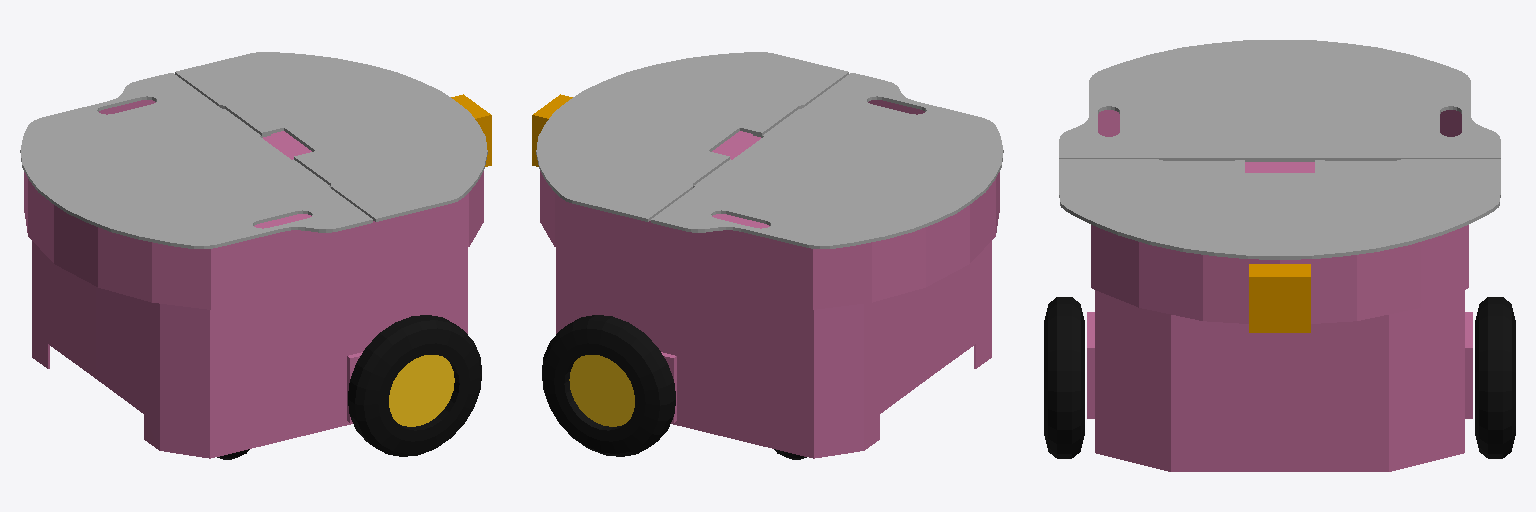
robot.urdf — powerbot:
<?xml version="1.0" ?>
<!-- =================================================================================== -->
<!-- |    This document was autogenerated by xacro from powerbot.xacro                 | -->
<!-- |    EDITING THIS FILE BY HAND IS NOT RECOMMENDED                                 | -->
<!-- =================================================================================== -->
<robot name="powerbot" xmlns:controller="http://playerstage.sourceforge.net/gazebo/xmlschema/#controller" xmlns:interface="http://playerstage.sourceforge.net/gazebo/xmlschema/#interface" xmlns:sensor="http://playerstage.sourceforge.net/gazebo/xmlschema/#sensor">
  <!--<xacro:include filename="$(find p2os_urdf)/defs/materials.xacro"/>-->
  <!--<xacro:include filename="$(find p2os_urdf)/defs/materials.xacro"/>-->
  <!--<xacro:include filename="$(find p2os_urdf)/defs/materials.xacro"/>-->
  <!-- 0.148 -->
  <!-- Right/${suffix} Swivel support

	<link name="${suffix}_swivel_support">
		<inertial>
			<mass value="0.1"/>	
			<origin xyz="0 0 0" rpy="0 0 0"/>
			<inertia ixx="0.01" ixy="0" ixz="0"
				 iyy="0.01" iyz="0" izz="0.01"/>
  	 	</inertial>
	<visual name="${suffix}_swivel_support_visual">
		<origin xyz="0 0 0" rpy="0 0 0"/>
		<geometry name="swivel">
			<mesh filename="${mesh_directory}/swivel_support.stl" />
		</geometry>
		<material name="swivel">
			<color rgba="0.9 0.9 0.9 1"/>
		</material>
	</visual>
	<collision>
		<origin xyz="0 0 0" rpy="0 0 0"/>
		<geometry>
			<mesh filename="${mesh_directory}/swivel_support.stl" scale= "1.005 1.005 1.005"/>
		</geometry>
	</collision>
	</link>
	<gazebo reference="swivel">
		<material value="Gazebo/Grey"/>
	</gazebo>

	<joint name="${suffix}_base_swivel_joint" type="continuous">
		<origin xyz="0 0 -0.04855" rpy="0 0 0"/>
		<axis xyz="0 0 1"/>
	    <limit effort="100" velocity="100" k_velocity="0" />
	    <joint_properties damping="0.0" friction="0.0" />
		<parent link="${suffix}_swivel_support"/>
		<child link="powerbot_${suffix}_swivel"/>
	</joint>
-->
  <joint name="left_base_swivel_support_joint" type="fixed">
    <origin rpy="0 0 0" xyz="-0.215 0.2 -0.145"/>
    <parent link="base_center"/>
    <child link="powerbot_left_swivel_support"/>
  </joint>
  <!-- Support bowl-->
  <link name="powerbot_left_swivel_support">
    <inertial>
      <mass value="2.0"/>
      <origin rpy="0 0 0" xyz="0 0 0"/>
      <inertia ixx="0.001" ixy="0" ixz="0" iyy="0.001" iyz="0" izz="0.001"/>
    </inertial>
    <visual>
      <origin rpy="0 0 0" xyz="0 0 0"/>
      <geometry name="swivel">
        <mesh filename="package://technical_project/meshes/p3dx_meshes/bowl.stl"/>
      </geometry>
    </visual>
    <collision>
      <origin rpy="0 0 0" xyz="0 0 0"/>
      <geometry>
        <mesh filename="package://technical_project/meshes/p3dx_meshes/bowl.stl" scale="1.005 1.005 1.005"/>
      </geometry>
    </collision>
  </link>
  <gazebo reference="powerbot_left_swivel_support">
    <material value="Gazebo/Yellow"/>
  </gazebo>
  <!-- ${suffix} support swivel ball joint -->
  <joint name="left_ballRoot_joint" type="fixed">
    <origin xyz="0 0 0"/>
    <parent link="powerbot_left_swivel_support"/>
    <child link="left_ball"/>
  </joint>
  <link name="left_ball">
    <inertial>
      <mass value="2.0"/>
      <origin xyz="0 0 0"/>
      <inertia ixx="0.00288" ixy="0.0" ixz="0.0" iyy="0.00288" iyz="0.0" izz="0.00288"/>
    </inertial>
  </link>
  <joint name="left_ballPsi_joint" type="continuous">
    <origin rpy="0 0 0" xyz="0 0 0"/>
    <parent link="left_ball"/>
    <child link="left_ball_psi_link"/>
    <axis xyz="0 0 1"/>
    <dynamics damping="0.09"/>
  </joint>
  <link name="left_ball_psi_link">
    <inertial>
      <mass value="2.0"/>
      <origin xyz="0 0 0"/>
      <inertia ixx="0.00288" ixy="0.0" ixz="0.0" iyy="0.00288" iyz="0.0" izz="0.00288"/>
    </inertial>
  </link>
  <joint name="left_ballTheta_joint" type="continuous">
    <origin rpy="0 0 0" xyz="0 0 0"/>
    <parent link="left_ball_psi_link"/>
    <child link="left_ball_theta_link"/>
    <axis xyz="0 1 0"/>
    <dynamics damping="0.09"/>
  </joint>
  <link name="left_ball_theta_link">
    <inertial>
      <mass value="2.0"/>
      <origin xyz="0 0 0"/>
      <inertia ixx="0.00288" ixy="0.0" ixz="0.0" iyy="0.00288" iyz="0.0" izz="0.00288"/>
    </inertial>
  </link>
  <joint name="left_ballPhi_joint" type="continuous">
    <origin rpy="0 0 0" xyz="0 0 0"/>
    <parent link="left_ball_theta_link"/>
    <child link="powerbot_left_swivel_ball"/>
    <axis xyz="1 0 0"/>
    <dynamics damping="0.09"/>
  </joint>
  <!--
-->
  <!-- Swivel ball -->
  <link name="powerbot_left_swivel_ball">
    <inertial>
      <mass value="2.0"/>
      <origin xyz="0 0 0"/>
      <inertia ixx="0.00288" ixy="0.0" ixz="0.0" iyy="0.00288" iyz="0.0" izz="0.00288"/>
    </inertial>
    <visual>
      <origin rpy="0 0 0" xyz="0 0 0"/>
      <geometry name="powerbot_left_swivel_ball">
        <mesh filename="package://technical_project/meshes/p3dx_meshes/ball.stl"/>
      </geometry>
      <material name="Wheeleft_black">
        <color rgba="0.117 0.117 0.117 1"/>
      </material>
    </visual>
    <collision>
      <origin rpy=" -1.57079635 0 0" xyz="0 0 0"/>
      <geometry>
        <sphere radius="0.06"/>
      </geometry>
    </collision>
  </link>
  <gazebo reference="powerbot_left_swivel_ball">
    <material value="Gazebo/Black"/>
    <mu1>100</mu1>
    <mu2>200</mu2>
    <kp>100000000.0</kp>
    <kd>1.0</kd>
  </gazebo>
  <!-- Right/${suffix} Swivel support

	<link name="${suffix}_swivel_support">
		<inertial>
			<mass value="0.1"/>	
			<origin xyz="0 0 0" rpy="0 0 0"/>
			<inertia ixx="0.01" ixy="0" ixz="0"
				 iyy="0.01" iyz="0" izz="0.01"/>
  	 	</inertial>
	<visual name="${suffix}_swivel_support_visual">
		<origin xyz="0 0 0" rpy="0 0 0"/>
		<geometry name="swivel">
			<mesh filename="${mesh_directory}/swivel_support.stl" />
		</geometry>
		<material name="swivel">
			<color rgba="0.9 0.9 0.9 1"/>
		</material>
	</visual>
	<collision>
		<origin xyz="0 0 0" rpy="0 0 0"/>
		<geometry>
			<mesh filename="${mesh_directory}/swivel_support.stl" scale= "1.005 1.005 1.005"/>
		</geometry>
	</collision>
	</link>
	<gazebo reference="swivel">
		<material value="Gazebo/Grey"/>
	</gazebo>

	<joint name="${suffix}_base_swivel_joint" type="continuous">
		<origin xyz="0 0 -0.04855" rpy="0 0 0"/>
		<axis xyz="0 0 1"/>
	    <limit effort="100" velocity="100" k_velocity="0" />
	    <joint_properties damping="0.0" friction="0.0" />
		<parent link="${suffix}_swivel_support"/>
		<child link="powerbot_${suffix}_swivel"/>
	</joint>
-->
  <joint name="right_base_swivel_support_joint" type="fixed">
    <origin rpy="0 0 0" xyz="-0.215 -0.2 -0.145"/>
    <parent link="base_center"/>
    <child link="powerbot_right_swivel_support"/>
  </joint>
  <!-- Support bowl-->
  <link name="powerbot_right_swivel_support">
    <inertial>
      <mass value="2.0"/>
      <origin rpy="0 0 0" xyz="0 0 0"/>
      <inertia ixx="0.001" ixy="0" ixz="0" iyy="0.001" iyz="0" izz="0.001"/>
    </inertial>
    <visual>
      <origin rpy="0 0 0" xyz="0 0 0"/>
      <geometry name="swivel">
        <mesh filename="package://technical_project/meshes/p3dx_meshes/bowl.stl"/>
      </geometry>
    </visual>
    <collision>
      <origin rpy="0 0 0" xyz="0 0 0"/>
      <geometry>
        <mesh filename="package://technical_project/meshes/p3dx_meshes/bowl.stl" scale="1.005 1.005 1.005"/>
      </geometry>
    </collision>
  </link>
  <gazebo reference="powerbot_right_swivel_support">
    <material value="Gazebo/Yellow"/>
  </gazebo>
  <!-- ${suffix} support swivel ball joint -->
  <joint name="right_ballRoot_joint" type="fixed">
    <origin xyz="0 0 0"/>
    <parent link="powerbot_right_swivel_support"/>
    <child link="right_ball"/>
  </joint>
  <link name="right_ball">
    <inertial>
      <mass value="2.0"/>
      <origin xyz="0 0 0"/>
      <inertia ixx="0.00288" ixy="0.0" ixz="0.0" iyy="0.00288" iyz="0.0" izz="0.00288"/>
    </inertial>
  </link>
  <joint name="right_ballPsi_joint" type="continuous">
    <origin rpy="0 0 0" xyz="0 0 0"/>
    <parent link="right_ball"/>
    <child link="right_ball_psi_link"/>
    <axis xyz="0 0 1"/>
    <dynamics damping="0.09"/>
  </joint>
  <link name="right_ball_psi_link">
    <inertial>
      <mass value="2.0"/>
      <origin xyz="0 0 0"/>
      <inertia ixx="0.00288" ixy="0.0" ixz="0.0" iyy="0.00288" iyz="0.0" izz="0.00288"/>
    </inertial>
  </link>
  <joint name="right_ballTheta_joint" type="continuous">
    <origin rpy="0 0 0" xyz="0 0 0"/>
    <parent link="right_ball_psi_link"/>
    <child link="right_ball_theta_link"/>
    <axis xyz="0 1 0"/>
    <dynamics damping="0.09"/>
  </joint>
  <link name="right_ball_theta_link">
    <inertial>
      <mass value="2.0"/>
      <origin xyz="0 0 0"/>
      <inertia ixx="0.00288" ixy="0.0" ixz="0.0" iyy="0.00288" iyz="0.0" izz="0.00288"/>
    </inertial>
  </link>
  <joint name="right_ballPhi_joint" type="continuous">
    <origin rpy="0 0 0" xyz="0 0 0"/>
    <parent link="right_ball_theta_link"/>
    <child link="powerbot_right_swivel_ball"/>
    <axis xyz="1 0 0"/>
    <dynamics damping="0.09"/>
  </joint>
  <!--
-->
  <!-- Swivel ball -->
  <link name="powerbot_right_swivel_ball">
    <inertial>
      <mass value="2.0"/>
      <origin xyz="0 0 0"/>
      <inertia ixx="0.00288" ixy="0.0" ixz="0.0" iyy="0.00288" iyz="0.0" izz="0.00288"/>
    </inertial>
    <visual>
      <origin rpy="0 0 0" xyz="0 0 0"/>
      <geometry name="powerbot_right_swivel_ball">
        <mesh filename="package://technical_project/meshes/p3dx_meshes/ball.stl"/>
      </geometry>
      <material name="Wheeright_black">
        <color rgba="0.117 0.117 0.117 1"/>
      </material>
    </visual>
    <collision>
      <origin rpy=" -1.57079635 0 0" xyz="0 0 0"/>
      <geometry>
        <sphere radius="0.06"/>
      </geometry>
    </collision>
  </link>
  <gazebo reference="powerbot_right_swivel_ball">
    <material value="Gazebo/Black"/>
    <mu1>100</mu1>
    <mu2>200</mu2>
    <kp>100000000.0</kp>
    <kd>1.0</kd>
  </gazebo>
  <link name="powerbot_left_wheel">
    <inertial>
      <mass value="5.25"/>
      <origin xyz="0 0 0"/>
      <inertia ixx="0.012411765597" ixy="0" ixz="0" iyy="0.015218160428" iyz="0" izz="0.011763977943"/>
    </inertial>
    <visual>
      <origin rpy="0 0 0" xyz="0 0 0"/>
      <geometry>
        <mesh filename="package://technical_project/meshes/p3dx_meshes/wheel.stl"/>
      </geometry>
      <material name="WheelBlack">
        <color rgba="0.117 0.117 0.117 1"/>
      </material>
    </visual>
    <collision>
      <origin rpy="-1.57079635 0 0" xyz="0 0 0"/>
      <geometry>
        <cylinder length="0.065" radius="0.133"/>
      </geometry>
      <!--
			<geometry>
				<mesh filename="${mesh_directory}/wheel.stl" scale= "1.005 1.005 1.005"/>
			</geometry>-->
    </collision>
  </link>
  <joint name="base_left_hubcap_joint" type="fixed">
    <origin rpy="0 0 0" xyz="0 0 0"/>
    <parent link="powerbot_left_wheel"/>
    <child link="powerbot_left_hubcap"/>
  </joint>
  <link name="powerbot_left_hubcap">
    <inertial>
      <mass value="0.08"/>
      <origin xyz="0 0 0"/>
      <inertia ixx="0.012411765597" ixy="0" ixz="0" iyy="0.015218160428" iyz="0" izz="0.011763977943"/>
    </inertial>
    <visual>
      <origin rpy="0 0 0" xyz="0 0 0"/>
      <geometry>
        <mesh filename="package://technical_project/meshes/p3dx_meshes/hubcap.stl"/>
      </geometry>
      <material name="HubcapYellow">
        <color rgba="1.0 0.811 0.151 1.0"/>
      </material>
    </visual>
  </link>
  <!-- The transmission tag is used only by ros_control -->
  <!--<transmission type="pr2_mechanism_model/SimpleTransmission" name="${parent}_${suffix}_wheel_trans">
        <actuator name="base_${suffix}_wheel_motor" />
        <joint name="base_${suffix}_wheel_joint" />
        <hardwareInterface>hardware_interface/VelocityJointInterface</hardwareInterface>
        <mechanicalReduction>${reflect * 624/35 * 80/19}</mechanicalReduction>
        </transmission>-->
  <joint name="base_left_wheel_joint" type="continuous">
    <axis xyz="0 1 0"/>
    <anchor xyz="0 0 0"/>
    <limit effort="100" velocity="100"/>
    <joint_properties damping="0.0" friction="0.0"/>
    <origin rpy="0 0 0" xyz="0.084 0.35 -0.07"/>
    <parent link="base_center"/>
    <child link="powerbot_left_wheel"/>
  </joint>
  <transmission name="left_wheel_trans">
    <type>transmission_interface/SimpleTransmission</type>
    <joint name="base_left_wheel_joint">
      <hardwareInterface>hardware_interface/VelocityJointInterface</hardwareInterface>
    </joint>
    <actuator name="base_left_wheel_motor">
      <hardwareInterface>hardware_interface/VelocityJointInterface</hardwareInterface>
      <mechanicalReduction>75.06766917293233</mechanicalReduction>
    </actuator>
  </transmission>
  <gazebo reference="powerbot_left_hubcap">
    <material value="Gazebo/Yellow"/>
  </gazebo>
  <gazebo reference="powerbot_left_wheel">
    <material value="Gazebo/Black"/>
    <mu1>0.5</mu1>
    <mu2>50.0</mu2>
    <kp>100000000.0</kp>
    <kd>1.0</kd>
  </gazebo>
  <link name="powerbot_right_wheel">
    <inertial>
      <mass value="5.25"/>
      <origin xyz="0 0 0"/>
      <inertia ixx="0.012411765597" ixy="0" ixz="0" iyy="0.015218160428" iyz="0" izz="0.011763977943"/>
    </inertial>
    <visual>
      <origin rpy="0 0 0" xyz="0 0 0"/>
      <geometry>
        <mesh filename="package://technical_project/meshes/p3dx_meshes/wheel.stl"/>
      </geometry>
      <material name="WheelBlack">
        <color rgba="0.117 0.117 0.117 1"/>
      </material>
    </visual>
    <collision>
      <origin rpy="-1.57079635 0 0" xyz="0 0 0"/>
      <geometry>
        <cylinder length="0.065" radius="0.133"/>
      </geometry>
      <!--
			<geometry>
				<mesh filename="${mesh_directory}/wheel.stl" scale= "1.005 1.005 1.005"/>
			</geometry>-->
    </collision>
  </link>
  <joint name="base_right_hubcap_joint" type="fixed">
    <origin rpy="0 0 0" xyz="0 0 0"/>
    <parent link="powerbot_right_wheel"/>
    <child link="powerbot_right_hubcap"/>
  </joint>
  <link name="powerbot_right_hubcap">
    <inertial>
      <mass value="0.08"/>
      <origin xyz="0 0 0"/>
      <inertia ixx="0.012411765597" ixy="0" ixz="0" iyy="0.015218160428" iyz="0" izz="0.011763977943"/>
    </inertial>
    <visual>
      <origin rpy="0 0 0" xyz="0 0 0"/>
      <geometry>
        <mesh filename="package://technical_project/meshes/p3dx_meshes/hubcap.stl"/>
      </geometry>
      <material name="HubcapYellow">
        <color rgba="1.0 0.811 0.151 1.0"/>
      </material>
    </visual>
  </link>
  <!-- The transmission tag is used only by ros_control -->
  <!--<transmission type="pr2_mechanism_model/SimpleTransmission" name="${parent}_${suffix}_wheel_trans">
        <actuator name="base_${suffix}_wheel_motor" />
        <joint name="base_${suffix}_wheel_joint" />
        <hardwareInterface>hardware_interface/VelocityJointInterface</hardwareInterface>
        <mechanicalReduction>${reflect * 624/35 * 80/19}</mechanicalReduction>
        </transmission>-->
  <joint name="base_right_wheel_joint" type="continuous">
    <axis xyz="0 1 0"/>
    <anchor xyz="0 0 0"/>
    <limit effort="100" velocity="100"/>
    <joint_properties damping="0.0" friction="0.0"/>
    <origin rpy="0 0 0" xyz="0.084 -0.35 -0.07"/>
    <parent link="base_center"/>
    <child link="powerbot_right_wheel"/>
  </joint>
  <transmission name="right_wheel_trans">
    <type>transmission_interface/SimpleTransmission</type>
    <joint name="base_right_wheel_joint">
      <hardwareInterface>hardware_interface/VelocityJointInterface</hardwareInterface>
    </joint>
    <actuator name="base_right_wheel_motor">
      <hardwareInterface>hardware_interface/VelocityJointInterface</hardwareInterface>
      <mechanicalReduction>-75.06766917293233</mechanicalReduction>
    </actuator>
  </transmission>
  <gazebo reference="powerbot_right_hubcap">
    <material value="Gazebo/Yellow"/>
  </gazebo>
  <gazebo reference="powerbot_right_wheel">
    <material value="Gazebo/Black"/>
    <mu1>0.5</mu1>
    <mu2>50.0</mu2>
    <kp>100000000.0</kp>
    <kd>1.0</kd>
  </gazebo>
  <!-- Chassis -->
  <link name="base_center">
    <inertial>
      <mass value="120.0"/>
      <origin xyz="-0.045 0 0.067"/>
      <inertia ixx="1" ixy="0.0" ixz="0.0" iyy="1" iyz="0.0" izz="1"/>
    </inertial>
    <visual>
      <origin rpy="0 0 0" xyz="-0.045 0 0.067"/>
      <geometry name="pioneer_geom">
        <mesh filename="package://technical_project/meshes/p3dx_meshes/chassis.stl"/>
      </geometry>
    </visual>
    <collision>
      <origin rpy="0 0 0" xyz="-0.045 0 0.067"/>
      <geometry>
        <mesh filename="package://technical_project/meshes/p3dx_meshes/chassis.stl" scale="1.01 1.01 1.01"/>
      </geometry>
    </collision>
  </link>
  <gazebo reference="base_center">
    <material value="Gazebo/Yellow"/>
  </gazebo>
  <!-- Top -->
  <joint name="base_top_joint" type="fixed">
    <!--origin xyz="-0.045 0 0.325" rpy="0 0 0"/-->
    <origin rpy="0 0 0" xyz="-0.045 0 0.277"/>
    <parent link="base_center"/>
    <child link="top_plate"/>
  </joint>
  <!-- Top plate -->
  <link name="top_plate">
    <inertial>
      <mass value="0.1"/>
      <origin xyz="0 0 0"/>
      <inertia ixx="1" ixy="0" ixz="0" iyy="1" iyz="0" izz="1"/>
    </inertial>
    <visual>
      <origin rpy="0 0 0" xyz="0 0 0"/>
      <geometry name="top_geom">
        <mesh filename="package://technical_project/meshes/p3dx_meshes/top.stl"/>
      </geometry>
    </visual>
    <collision>
      <origin rpy="0 0 0" xyz="0 0 0"/>
      <geometry>
        <mesh filename="package://technical_project/meshes/p3dx_meshes/top.stl"/>
      </geometry>
    </collision>
  </link>
  <gazebo reference="top_plate">
    <material value="Gazebo/Black"/>
  </gazebo>
  <link name="sensor_link">
    <visual>
      <geometry>
        <box size="0.05 0.1 0.1"/>
      </geometry>
    </visual>
    <inertial>
      <origin rpy="0 0 0" xyz="0 0 1"/>
      <mass value="0.5"/>
      <inertia ixx="1.0" ixy="0.0" ixz="0.0" iyy="1.0" iyz="0.0" izz="1.0"/>
    </inertial>
  </link>
  <gazebo reference="sensor_link">
    <material value="Gazebo/Blue"/>
  </gazebo>
  <joint name="sensor_joint" type="fixed">
    <parent link="base_center"/>
    <child link="sensor_link"/>
    <origin rpy="0 0 0" xyz="0.39 0 0.215"/>
  </joint>
  <gazebo reference="base_center">
    <sensor name="laser" type="ray">
      <pose>0.39 0 0.215 0 0 0</pose>
      <visualize>true</visualize>
      <update_rate>40</update_rate>
      <ray>
        <scan>
          <horizontal>
            <samples>720</samples>
            <resolution>1</resolution>
            <min_angle>-1.57</min_angle>
            <max_angle>1.57</max_angle>
          </horizontal>
        </scan>
        <range>
          <min>0.1</min>
          <max>30.0</max>
          <resolution>0.01</resolution>
        </range>
        <noise>
          <type>gaussian</type>
          <mean>0.0</mean>
          <stddev>0.01</stddev>
        </noise>
      </ray>
      <plugin filename="libgazebo_ros_laser.so" name="gazebo_ros_head_hokuyo_controller">
        <topicName>/laser/scan</topicName>
        <frameName>base_center</frameName>
      </plugin>
    </sensor>
  </gazebo>
  <gazebo reference="sensor_link">
    <sensor name="camera" type="depth">
      <always_on>1</always_on>
      <update_rate>20.0</update_rate>
      <visualize>true</visualize>
      <camera>
        <horizontal_fov>1.047</horizontal_fov>
        <image>
          <width>640</width>
          <height>480</height>
          <format>R8G8B8</format>
        </image>
        <depth_camera>

            </depth_camera>
        <clip>
          <near>0.1</near>
          <far>20</far>
        </clip>
      </camera>
      <plugin filename="libgazebo_ros_openni_kinect.so" name="camera_plugin">
        <alwaysOn>true</alwaysOn>
        <updateRate>10.0</updateRate>
        <cameraName>camera</cameraName>
        <frameName>camera_link_optical</frameName>
        <imageTopicName>rgb/image_raw</imageTopicName>
        <depthImageTopicName>depth/image_raw</depthImageTopicName>
        <pointCloudTopicName>depth/points</pointCloudTopicName>
        <cameraInfoTopicName>rgb/camera_info</cameraInfoTopicName>
        <depthImageCameraInfoTopicName>depth/camera_info</depthImageCameraInfoTopicName>
        <pointCloudCutoff>0.4</pointCloudCutoff>
        <hackBaseline>0.07</hackBaseline>
        <distortionK1>0.0</distortionK1>
        <distortionK2>0.0</distortionK2>
        <distortionK3>0.0</distortionK3>
        <distortionT1>0.0</distortionT1>
        <distortionT2>0.0</distortionT2>
        <CxPrime>0.0</CxPrime>
        <Cx>0.0</Cx>
        <Cy>0.0</Cy>
        <focalLength>0.0</focalLength>
      </plugin>
    </sensor>
  </gazebo>
  <!--IMU-->
  <gazebo>
    <plugin filename="libgazebo_ros_imu.so" name="imu_plugin">
      <alwaysOn>true</alwaysOn>
      <bodyName>base_center</bodyName>
      <topicName>imu</topicName>
      <serviceName>imu_service</serviceName>
      <gaussianNoise>0.0</gaussianNoise>
      <updateRate>150.0</updateRate>
    </plugin>
  </gazebo>
  <gazebo>
    <plugin filename="libgazebo_ros_control.so" name="gazebo_ros_control">
</plugin>
  </gazebo>
</robot>

--- Facts derived from the render (not from the file) ---
Views: 3 orthographic renders of the robot side by side, from view 1: azimuth 30°, elevation 25°; view 2: azimuth 150°, elevation 25°; view 3: azimuth 270°, elevation 25°.
Model powerbot with 17 links and 16 joints (8 continuous, 8 fixed), rooted at base_center, posed all joints at 0.
Links seen in each view (by area): view 1: base_center, top_plate, powerbot_right_wheel, powerbot_right_hubcap, sensor_link; view 2: base_center, top_plate, powerbot_left_wheel, powerbot_left_hubcap, sensor_link; view 3: base_center, top_plate, powerbot_left_wheel, powerbot_right_wheel, sensor_link.
Boxes of the visible links, x1,y1,x2,y2 form: base_center: [24, 100, 483, 458]; top_plate: [20, 52, 487, 248]; powerbot_right_wheel: [348, 315, 481, 456]; powerbot_right_hubcap: [389, 355, 454, 426]; sensor_link: [451, 94, 491, 166]; base_center: [540, 100, 999, 458]; top_plate: [536, 52, 1003, 248]; powerbot_left_wheel: [542, 315, 675, 456]; powerbot_left_hubcap: [569, 355, 634, 426]; sensor_link: [532, 94, 572, 166]; base_center: [1087, 110, 1472, 471]; top_plate: [1059, 40, 1500, 259]; powerbot_left_wheel: [1475, 297, 1515, 458]; powerbot_right_wheel: [1044, 297, 1084, 458]; sensor_link: [1249, 264, 1310, 332].
Size in the robot's own frame: 0.876 by 0.765 by 0.4834 metres.
10 mesh visuals loaded from 6 distinct referenced files (6 binary STL).
